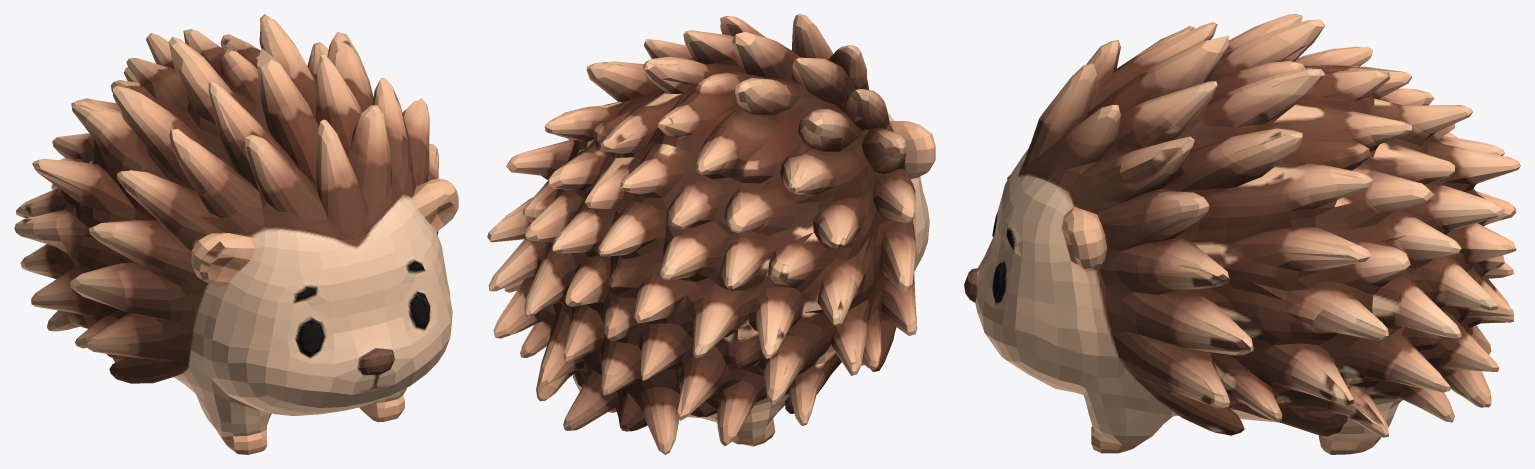
Rendered from hedgehog.glb.
3 views of the same model, side by side, from view 1: azimuth 30°, elevation 25°; view 2: azimuth 150°, elevation 25°; view 3: azimuth 270°, elevation 25° (orthographic). The views are drawn at different scales.
Visible parts, largest first — view 1: Hedgehog; view 2: Hedgehog; view 3: Hedgehog.
Boxes of the visible parts, box(x1,y1,x2,y2) form: Hedgehog: box(14, 14, 458, 454); Hedgehog: box(487, 14, 935, 454); Hedgehog: box(964, 14, 1520, 454).
Size of the model in its own units: 1.57 by 1.43 by 1.92.
Materials: 1 (1 with a texture image).
